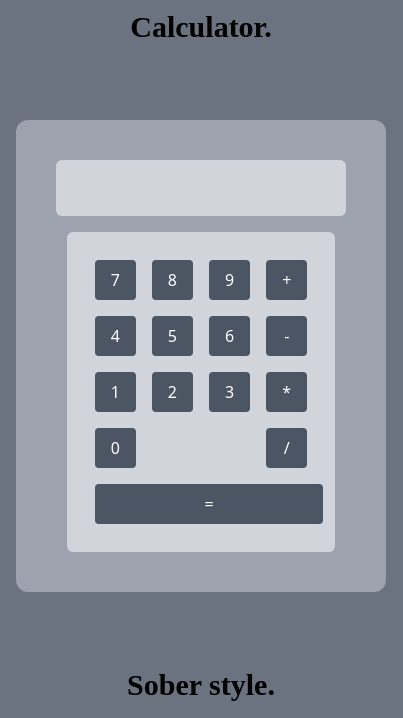
Test: Calculator › should show user input after clicking numbers and operations
Click the button "1": (115, 392) top-left (95, 372), bottom-right (136, 412)
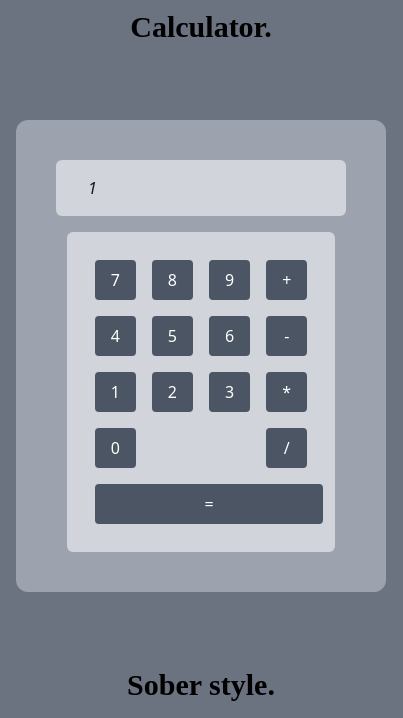
Click the button "+": (287, 280) top-left (266, 260), bottom-right (307, 300)
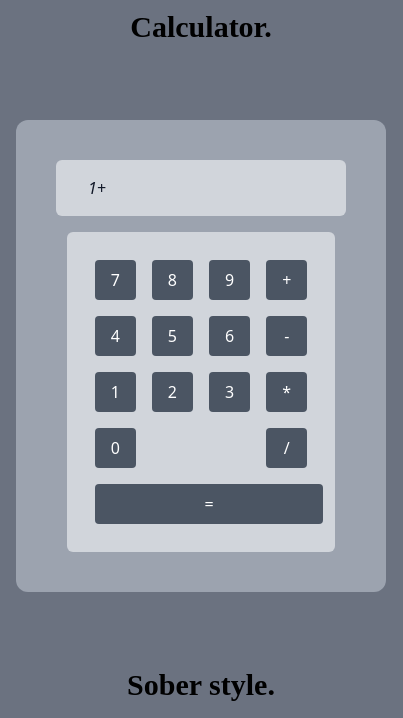
Click the button "1": (115, 392) top-left (95, 372), bottom-right (136, 412)
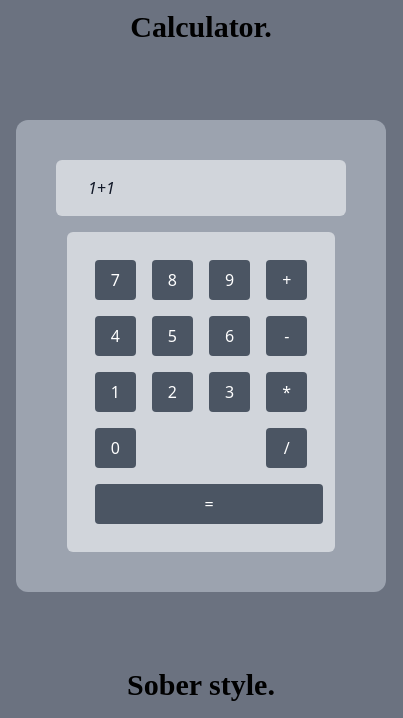
Now the field holds "1+1", box top-left (56, 160), bottom-right (346, 216)
